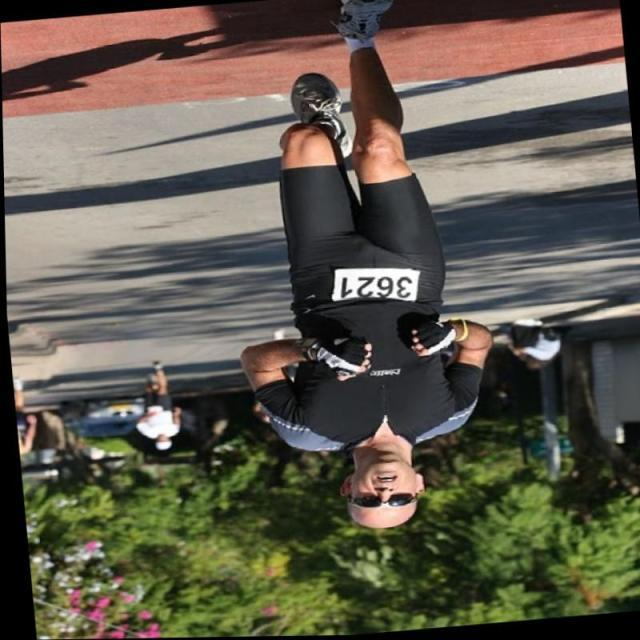dorsal: (322, 260, 420, 311)
